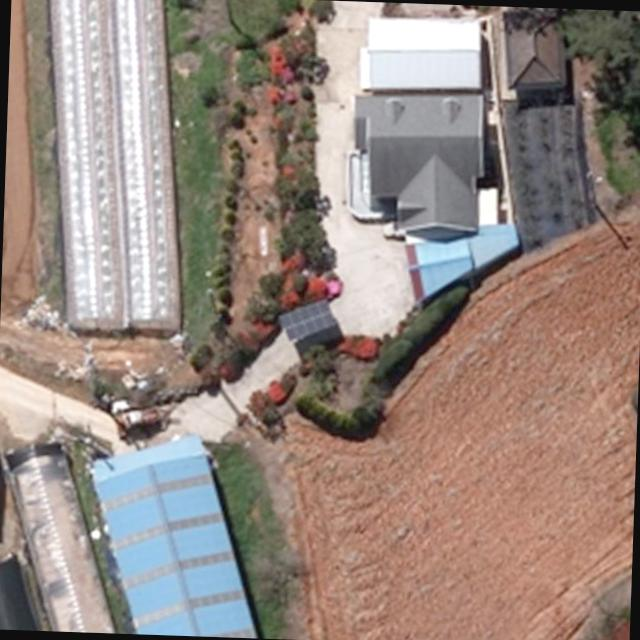solar: (279, 292, 341, 344)
